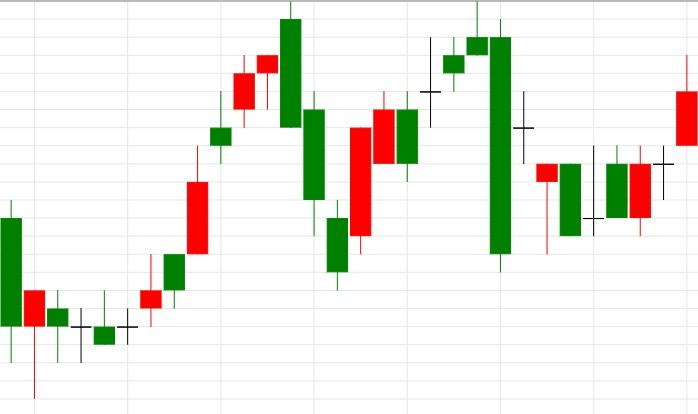bearish_engulfing_fall: (92, 0, 303, 346)
hammer_rise: (466, 0, 559, 273)
inverse_hammer_rise: (0, 200, 116, 399)
shooting_star_fall: (326, 0, 489, 291)
